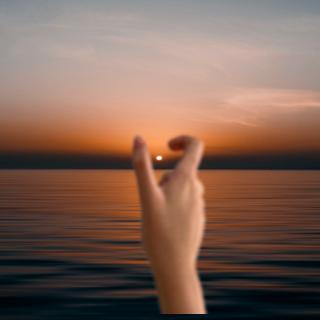Irritated: (123, 121, 214, 300)
